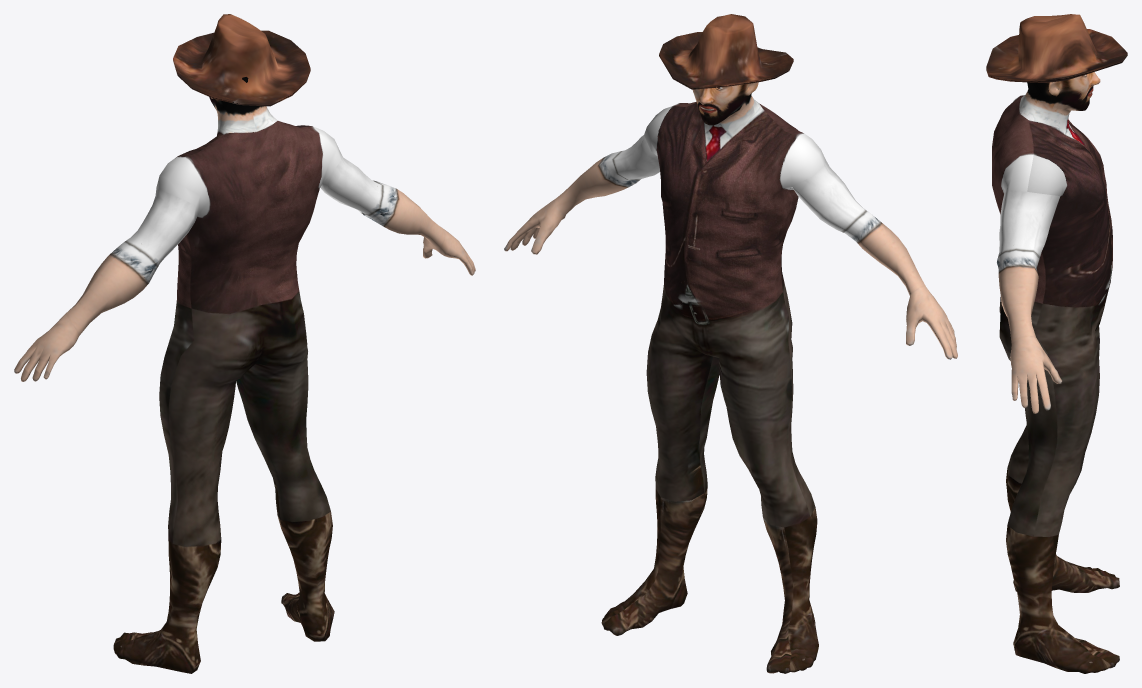
The model's file is character01.obj.
3 renders of one model, left to right at view 1: azimuth 30°, elevation 25°; view 2: azimuth 150°, elevation 25°; view 3: azimuth 270°, elevation 25°, orthographic. The views are drawn at different scales.
Visible parts, largest first — view 1: polySurface3; view 2: polySurface3; view 3: polySurface3.
Boxes of the visible parts, <box> form: polySurface3: <box>14,14,475,673</box>; polySurface3: <box>504,14,957,673</box>; polySurface3: <box>986,14,1127,673</box>.
Bounding box in the file's own units: 1.56 × 2.04 × 0.429.
1 material, 1 textured.
